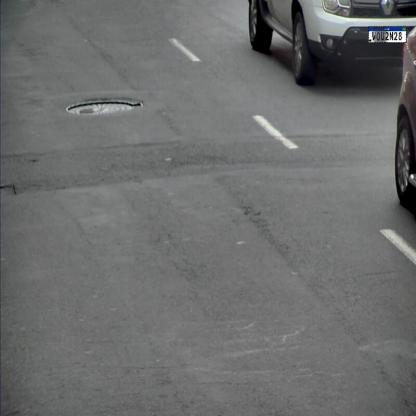PlacaM: (368, 26, 407, 43)
